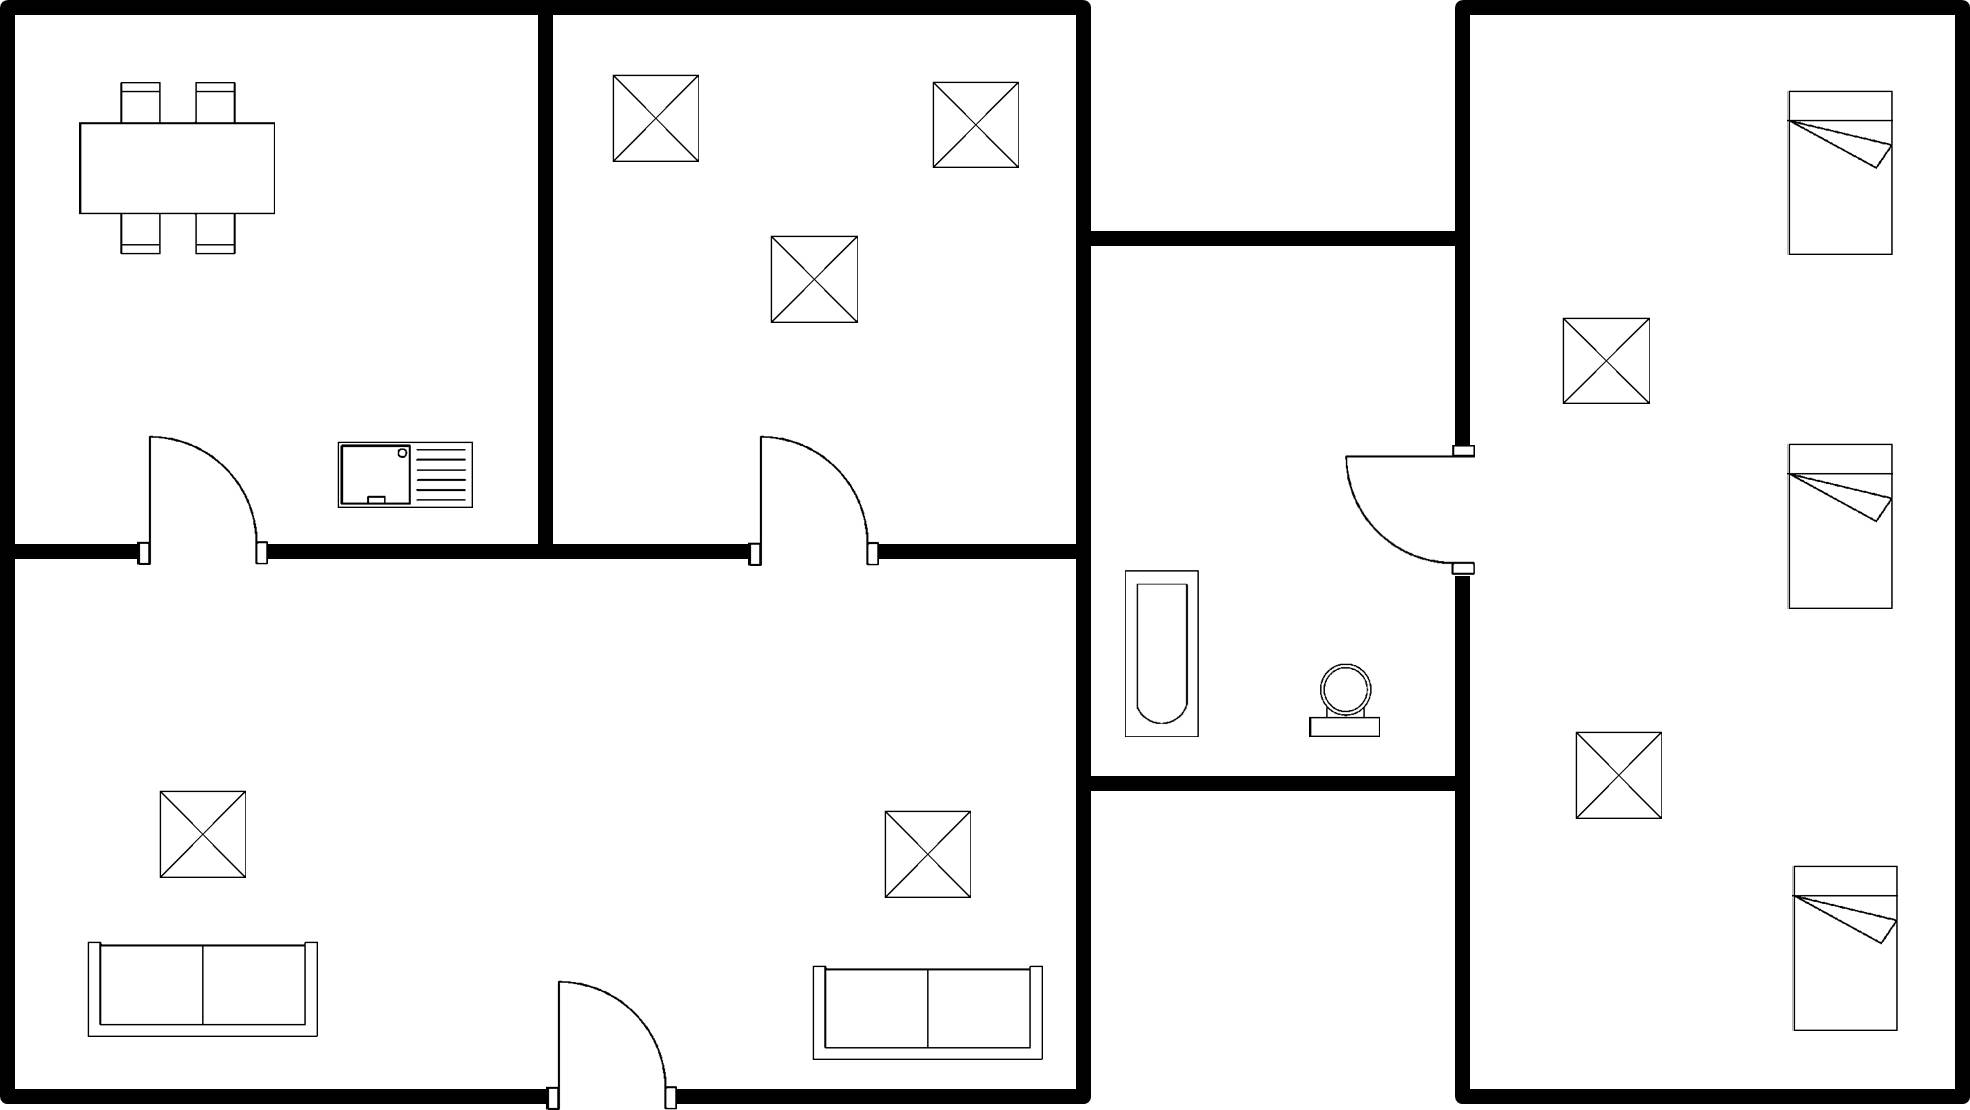bed: (1779, 851, 1916, 1042), (1776, 76, 1902, 266), (1775, 434, 1903, 622)
coffee_table: (1550, 301, 1666, 420), (758, 228, 878, 338), (147, 779, 262, 893), (595, 63, 714, 173), (1561, 720, 1676, 832), (871, 798, 983, 911), (919, 70, 1028, 177)
dining_table: (65, 72, 288, 265)
large_sink: (1296, 653, 1393, 752)
large_sofa: (72, 929, 331, 1049), (797, 958, 1055, 1067)
sink: (328, 431, 482, 522)
tub: (1113, 559, 1214, 749)
